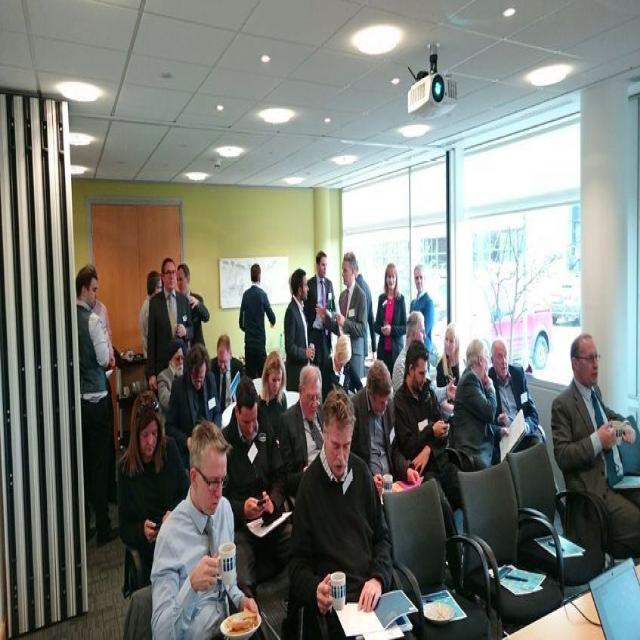gun: (284, 396, 416, 639), (147, 423, 279, 640), (552, 336, 640, 568), (68, 263, 119, 538), (116, 400, 189, 592), (395, 348, 459, 512), (218, 382, 286, 524), (140, 260, 210, 391), (450, 340, 510, 467), (349, 365, 412, 482), (489, 339, 541, 452), (338, 250, 375, 375), (239, 268, 278, 380), (307, 247, 339, 378), (287, 360, 321, 464), (286, 265, 314, 380), (178, 261, 214, 348), (372, 262, 400, 363), (405, 265, 440, 340), (184, 348, 214, 426), (215, 335, 244, 403), (141, 270, 159, 371), (434, 326, 463, 388), (320, 334, 356, 379), (160, 344, 184, 410), (259, 350, 285, 406), (401, 314, 429, 350)
